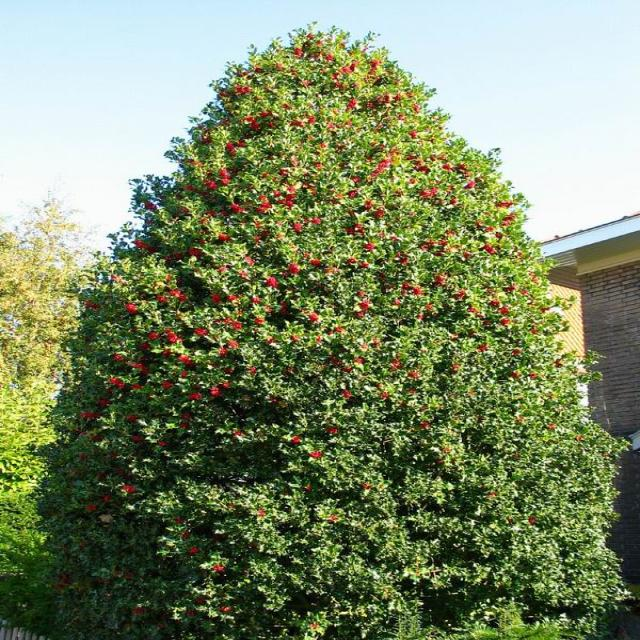acebo: (22, 28, 625, 640)
